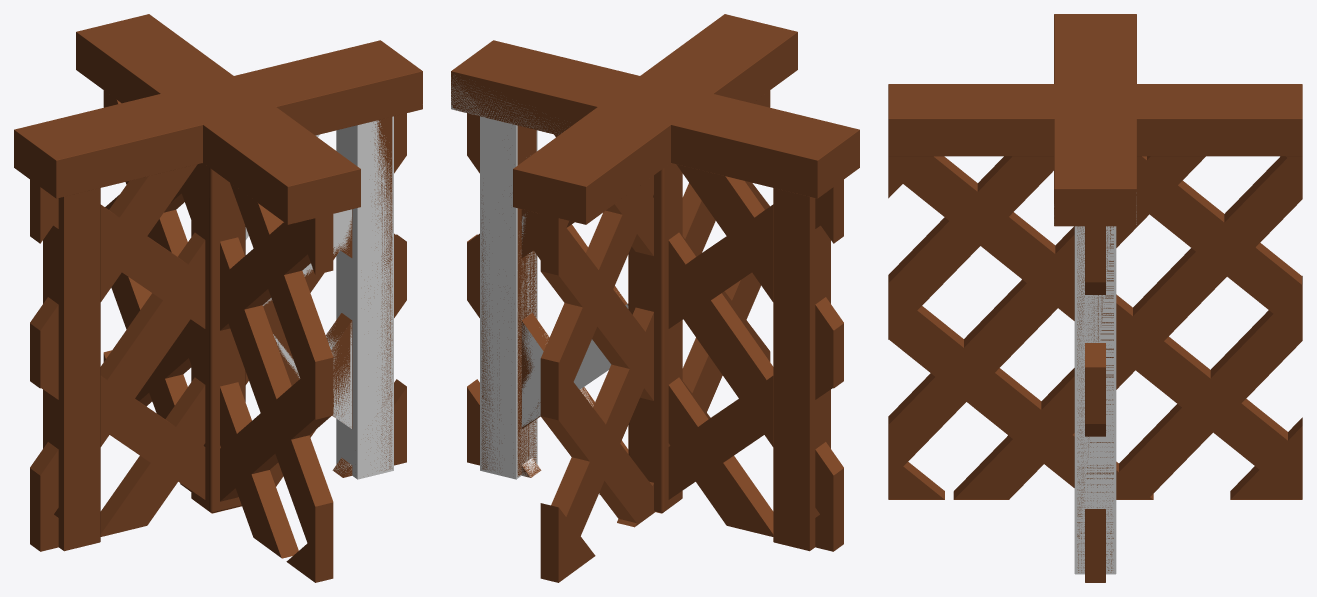
The model's file is Shade.glb.
3 views of the same model, side by side, from view 1: azimuth 30°, elevation 25°; view 2: azimuth 150°, elevation 25°; view 3: azimuth 270°, elevation 25° (orthographic). The views are drawn at different scales.
Parts seen in each view (by area): view 1: Shade W, Shade N, Shade Solo, Shade Single Left, Shade Single Right, Shade S, Shade E, Shade Middle; view 2: Shade E, Shade Solo, Shade N, Shade Single Right, Shade Single Left, Shade W, Shade S, Shade Middle; view 3: Shade W, Shade E, Shade S, Shade Single Right, Shade Solo, Shade N.
Boxes of the visible parts, x1,y1,x2,y2 form: Shade W: (161, 76, 360, 582); Shade N: (14, 76, 253, 551); Shade Solo: (15, 41, 421, 548); Shade Single Left: (43, 164, 205, 551); Shade Single Right: (245, 116, 393, 479); Shade S: (167, 40, 422, 486); Shade E: (76, 14, 273, 491); Shade Middle: (191, 163, 245, 513); Shade E: (513, 76, 711, 582); Shade Solo: (452, 43, 845, 548); Shade N: (630, 76, 859, 551); Shade Single Right: (451, 75, 628, 479); Shade Single Left: (668, 174, 830, 551); Shade W: (620, 14, 797, 418); Shade S: (451, 40, 687, 494); Shade Middle: (628, 163, 682, 513); Shade W: (888, 84, 1126, 499); Shade E: (1054, 84, 1302, 499); Shade S: (1054, 118, 1136, 582); Shade Single Right: (1054, 205, 1136, 574); Shade Solo: (1056, 14, 1134, 572); Shade N: (1054, 14, 1136, 118).
Size of the model in its own units: 1 by 1.05 by 1.
